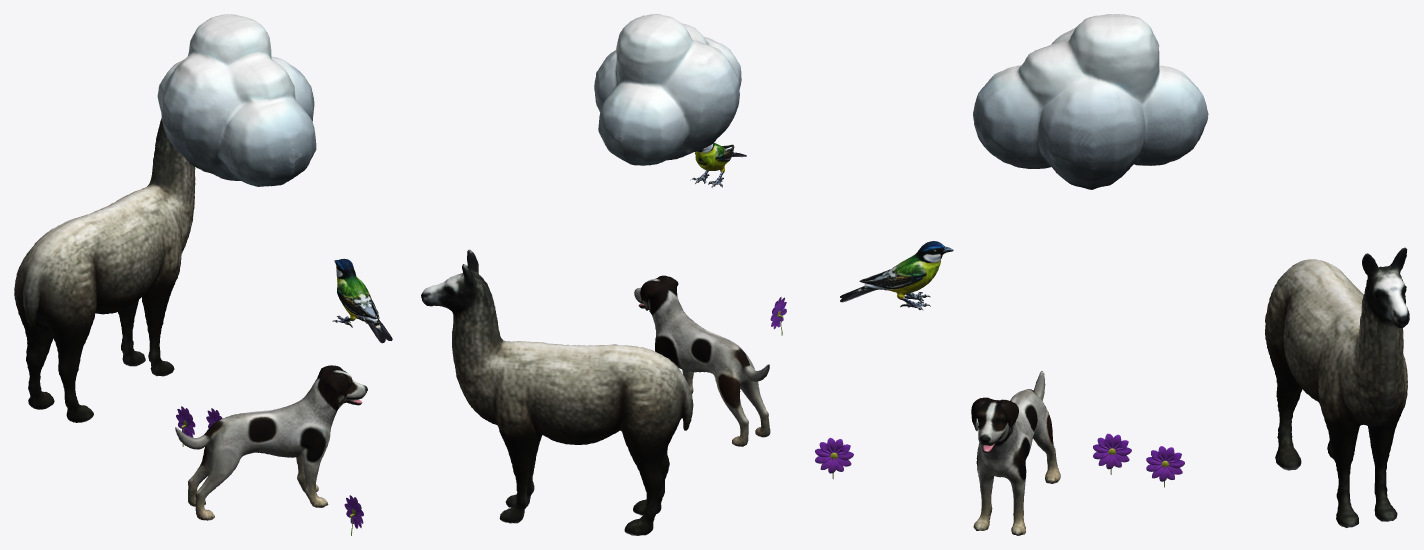
Rendered from llama5.glb.
3 views of the same model, side by side, from view 1: azimuth 30°, elevation 25°; view 2: azimuth 150°, elevation 25°; view 3: azimuth 270°, elevation 25° (orthographic). The views are drawn at different scales.
Visible parts, largest first — view 1: Mesh_0.004, Mesh_0, Mesh_0.001, Mesh_0.002; view 2: Mesh_0.004, Mesh_0, Mesh_0.001, Mesh_0.002; view 3: Mesh_0, Mesh_0.004, Mesh_0.001, Mesh_0.002, Mesh_0.003, Mesh_0.005, Mesh_0.006.
Boxes of the visible parts, <box> form: Mesh_0.004: <box>14,118,195,422</box>; Mesh_0: <box>157,14,316,186</box>; Mesh_0.001: <box>175,365,367,520</box>; Mesh_0.002: <box>332,258,392,343</box>; Mesh_0.004: <box>421,249,693,535</box>; Mesh_0: <box>594,14,741,165</box>; Mesh_0.001: <box>634,275,770,446</box>; Mesh_0.002: <box>690,142,746,187</box>; Mesh_0: <box>973,14,1208,189</box>; Mesh_0.004: <box>1265,247,1409,527</box>; Mesh_0.001: <box>971,371,1060,535</box>; Mesh_0.002: <box>840,241,953,310</box>; Mesh_0.003: <box>1093,433,1131,474</box>; Mesh_0.005: <box>815,437,853,479</box>; Mesh_0.006: <box>1146,446,1184,487</box>.
Size of the model in its own units: 18.83 by 34.25 by 37.37.
5 materials, 5 textured.
